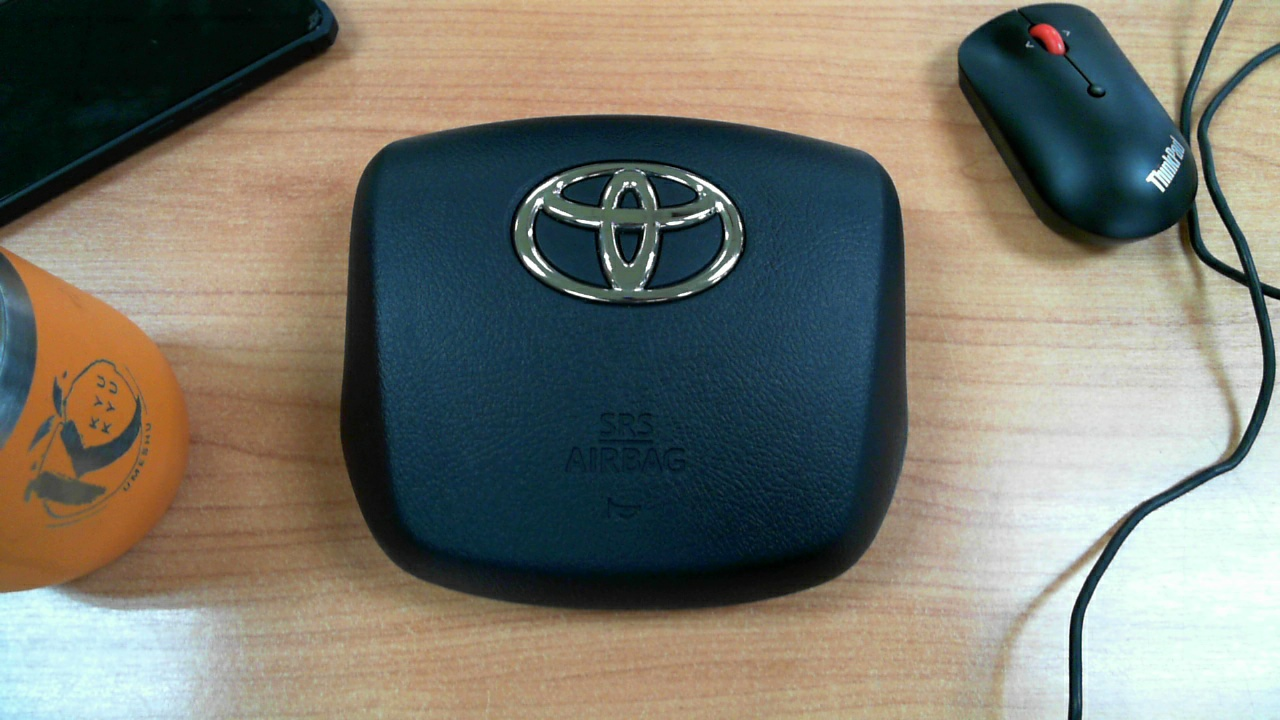Airbag: (287, 93, 947, 626)
